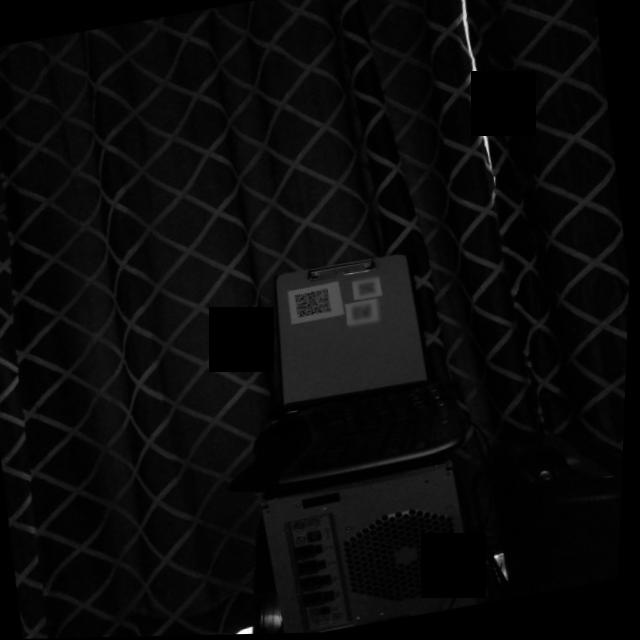QR_CODE: (289, 284, 340, 327), (348, 301, 386, 332), (356, 276, 383, 301)
